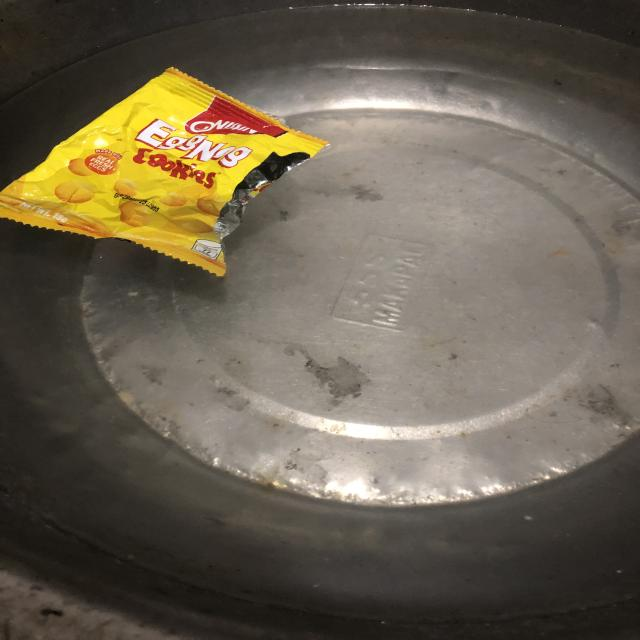Plastic Wrapper: (0, 68, 328, 275)
